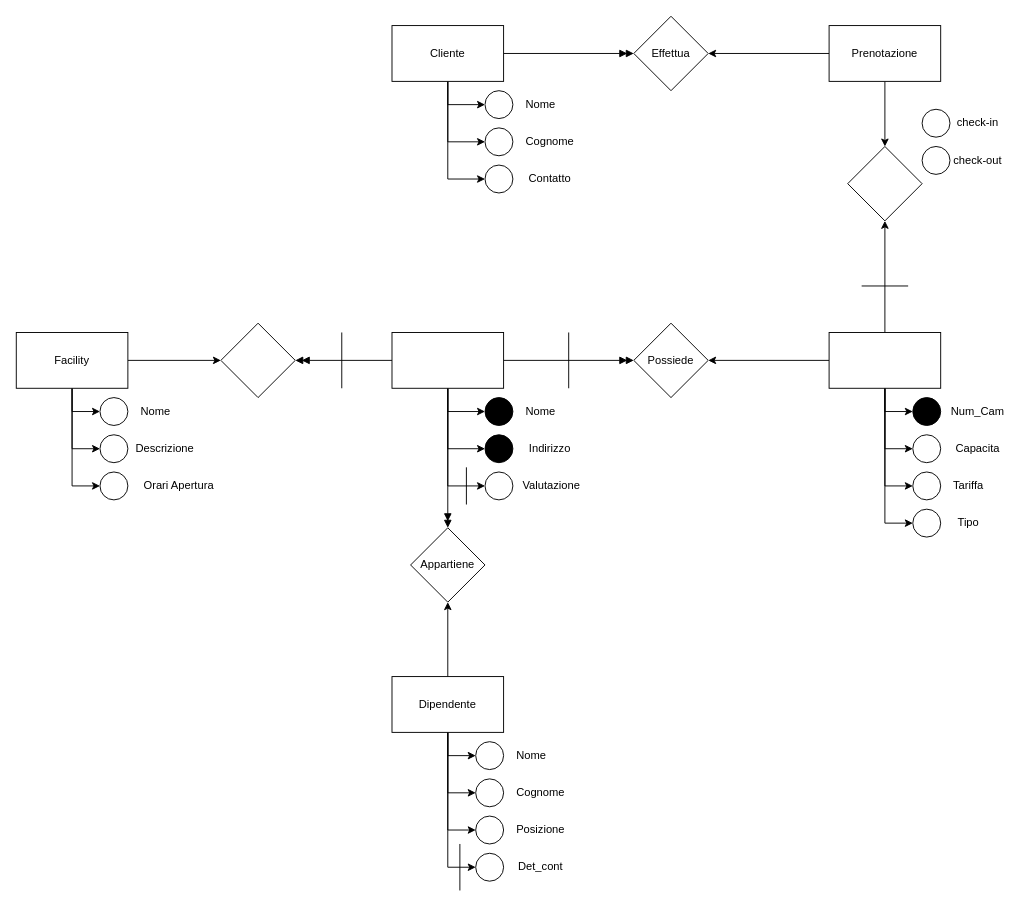
Image size: 1022x908. Some labels were removed from this diagram. The centre of each missing label's shape, as x and y in pixels:
Albergo: the point at 447,360
Camera: the point at 884,360
Contiene: the point at 257,360
Impegnata: the point at 884,183
